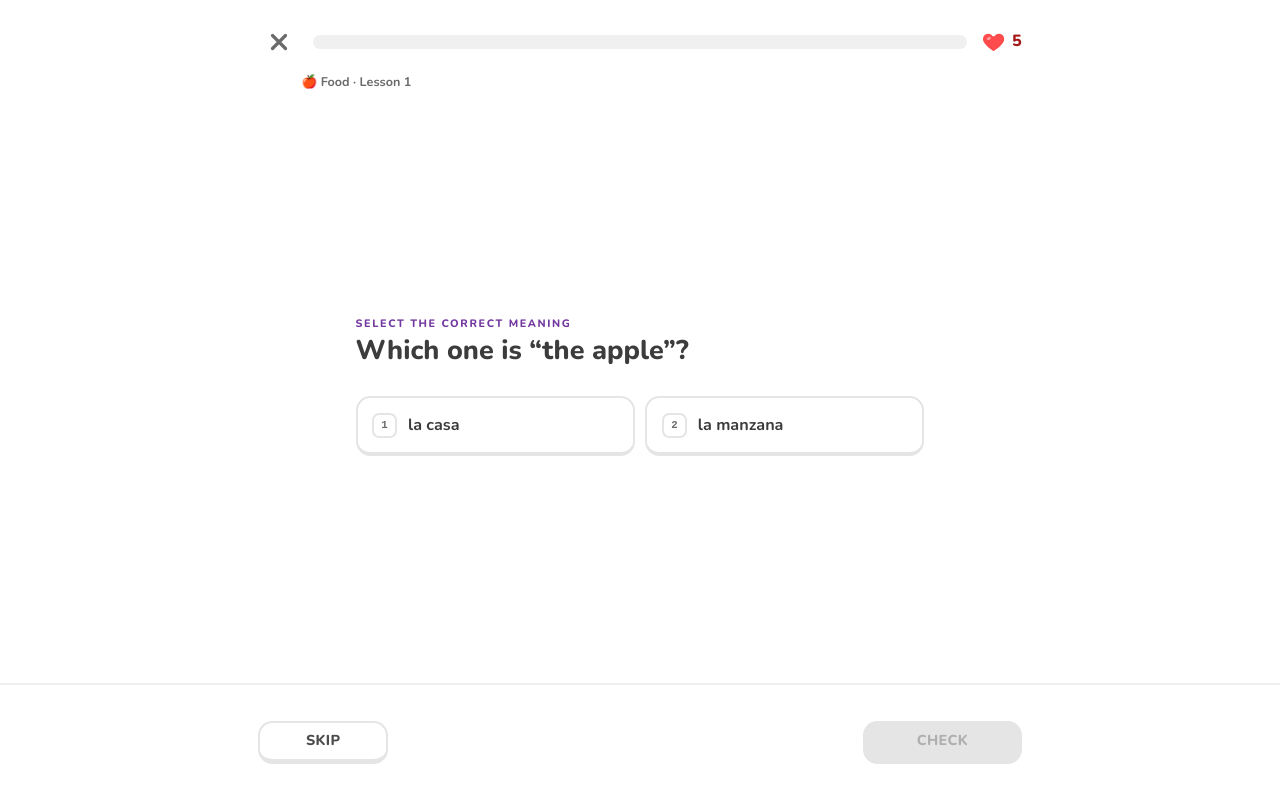
LessonPlayer › Skip works with no answer selected and shows the correct answer
The image size is (1280, 800).
Expected: the heading "Which one is “the apple”?" is shown, x1=356 y1=332 x2=689 y2=369
Expected: the button "Check" is disabled, x1=863 y1=721 x2=1022 y2=764
Click the button "Skip". click: coordinates (323, 742)
box: x1=258 y1=721 x2=388 y2=764
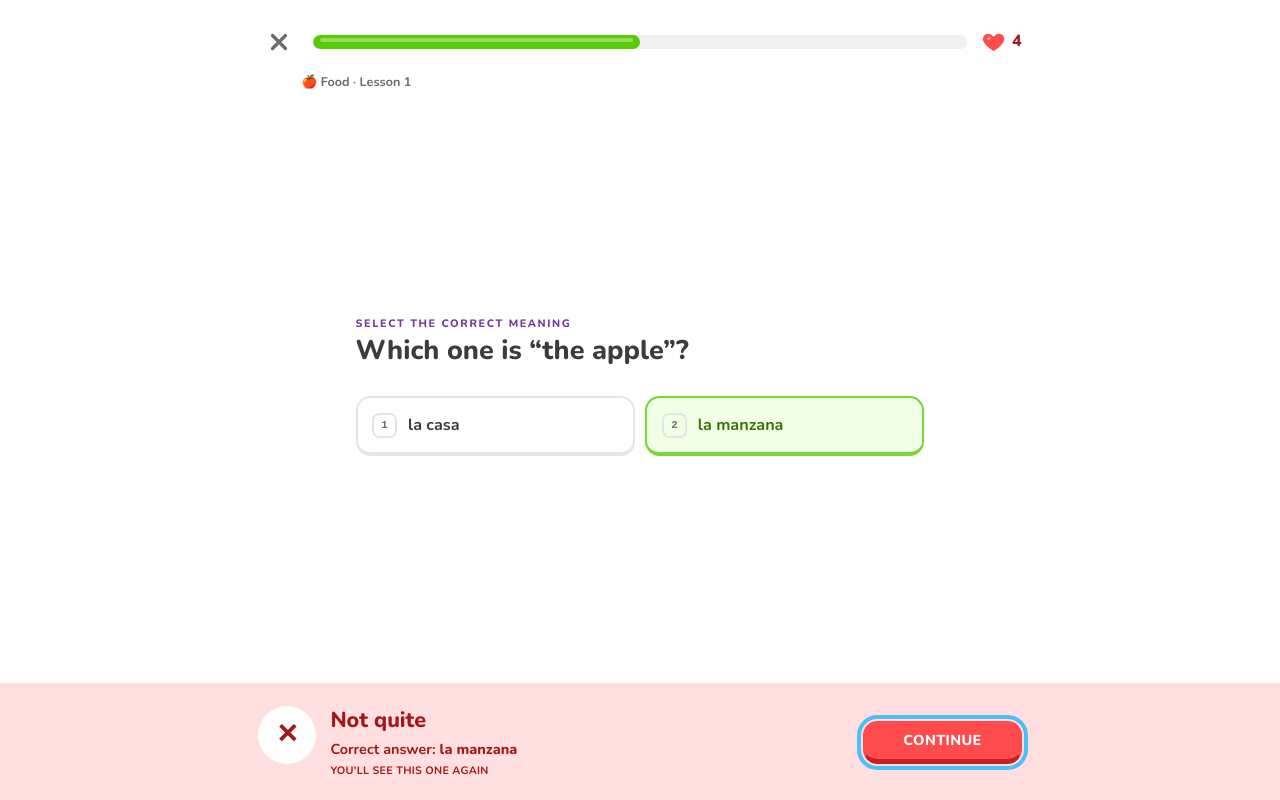
Now the text "Not quite" is shown, box x1=330 y1=705 x2=426 y2=735
Now the text "Correct answer: la manzana" is shown, box x1=330 y1=739 x2=517 y2=760
